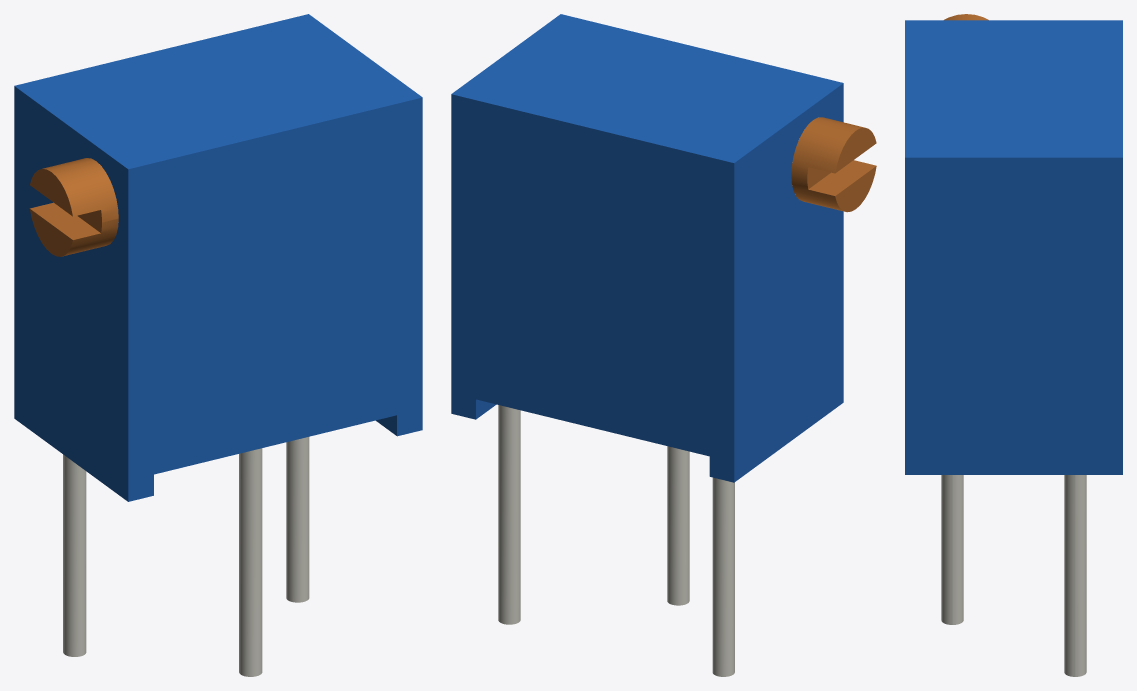
File: kc-potentiometer_bourns_3266x_horizontal.glb
The picture shows the model from 3 angles, left to right: view 1: azimuth 30°, elevation 25°; view 2: azimuth 150°, elevation 25°; view 3: azimuth 270°, elevation 25°; orthographic projection. The views are drawn at different scales.
Parts seen in each view (by area): view 1: 0_0.16666666666666666_0.5_0, 0.6666666666666666_0.6666666666666666_0.5833333333333334_0.8, 0.5_0.16666666666666666_0_0; view 2: 0_0.16666666666666666_0.5_0, 0.6666666666666666_0.6666666666666666_0.5833333333333334_0.8, 0.5_0.16666666666666666_0_0; view 3: 0_0.16666666666666666_0.5_0, 0.6666666666666666_0.6666666666666666_0.5833333333333334_0.8.
Boxes of the visible parts, bbox=[...] form: 0_0.16666666666666666_0.5_0: bbox=[14, 14, 422, 501]; 0.6666666666666666_0.6666666666666666_0.5833333333333334_0.8: bbox=[63, 437, 309, 676]; 0.5_0.16666666666666666_0_0: bbox=[29, 158, 118, 256]; 0_0.16666666666666666_0.5_0: bbox=[451, 14, 843, 482]; 0.6666666666666666_0.6666666666666666_0.5833333333333334_0.8: bbox=[498, 405, 734, 676]; 0.5_0.16666666666666666_0_0: bbox=[791, 117, 876, 212]; 0_0.16666666666666666_0.5_0: bbox=[905, 20, 1122, 474]; 0.6666666666666666_0.6666666666666666_0.5833333333333334_0.8: bbox=[941, 475, 1086, 676].
Bounding box in the file's own units: 0.773 × 1.21 × 0.45.
